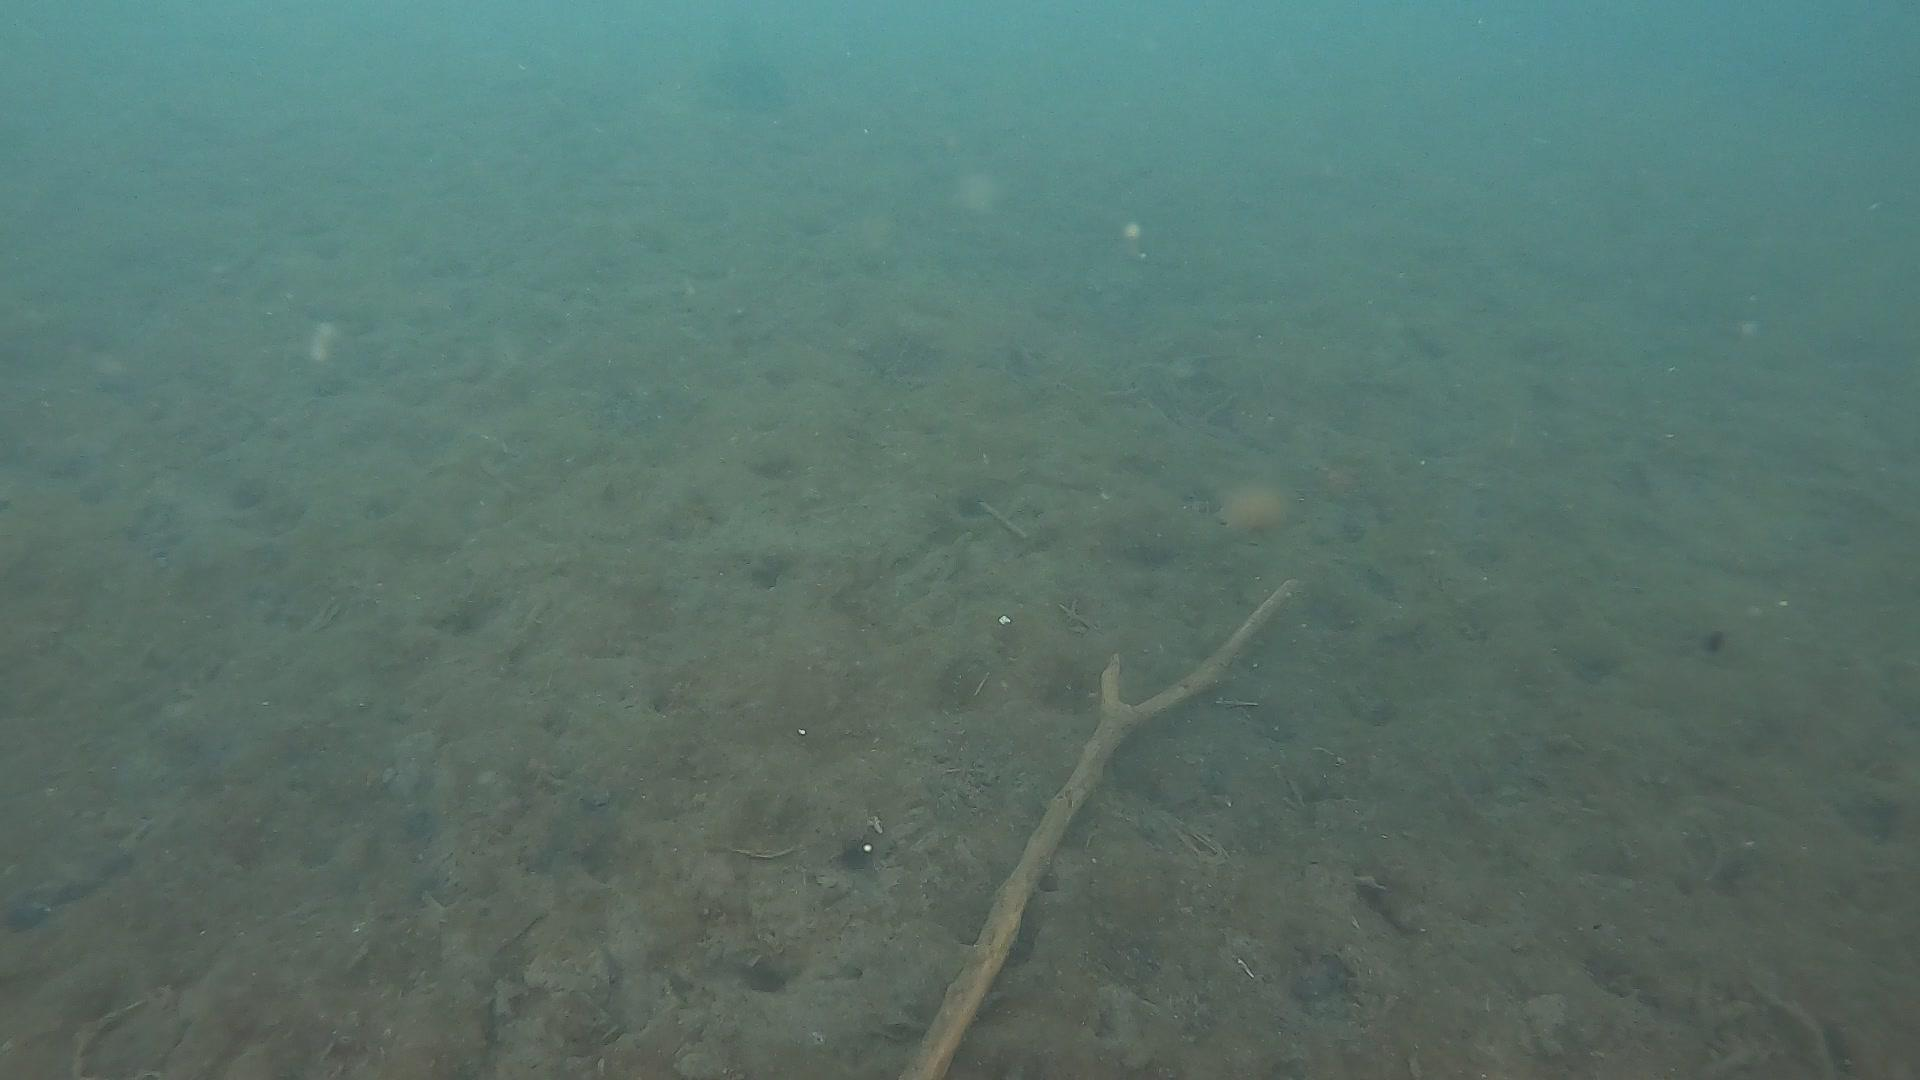wood: (897, 578, 1296, 1080)
